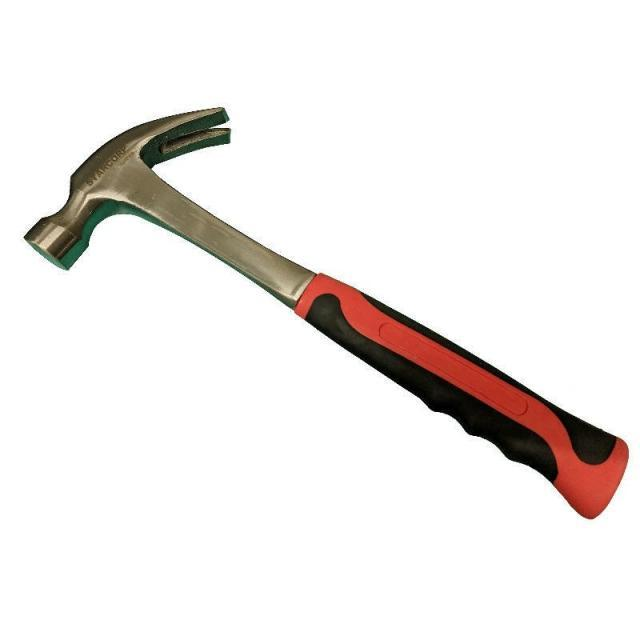hammer: (14, 103, 640, 534)
